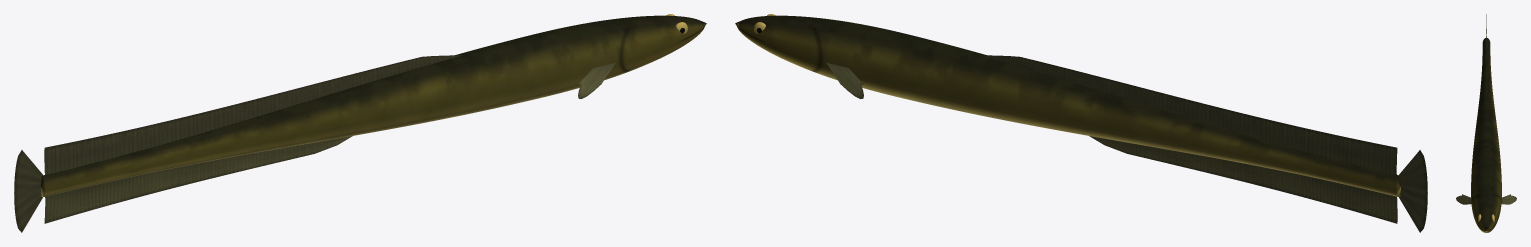
File: fish_eel.gltf
3 views of the same model, side by side, from view 1: azimuth 30°, elevation 25°; view 2: azimuth 150°, elevation 25°; view 3: azimuth 270°, elevation 25° (orthographic). The views are drawn at different scales.
Visible parts, largest first — view 1: fish_eel; view 2: fish_eel; view 3: fish_eel.
Boxes of the visible parts, x1,y1,x2,y2 form: fish_eel: (14, 14, 706, 232); fish_eel: (735, 14, 1427, 232); fish_eel: (1456, 14, 1516, 232).
Bounding box in the file's own units: 0.752 × 0.0864 × 0.0988.
Materials: 6 (4 with a texture image).
